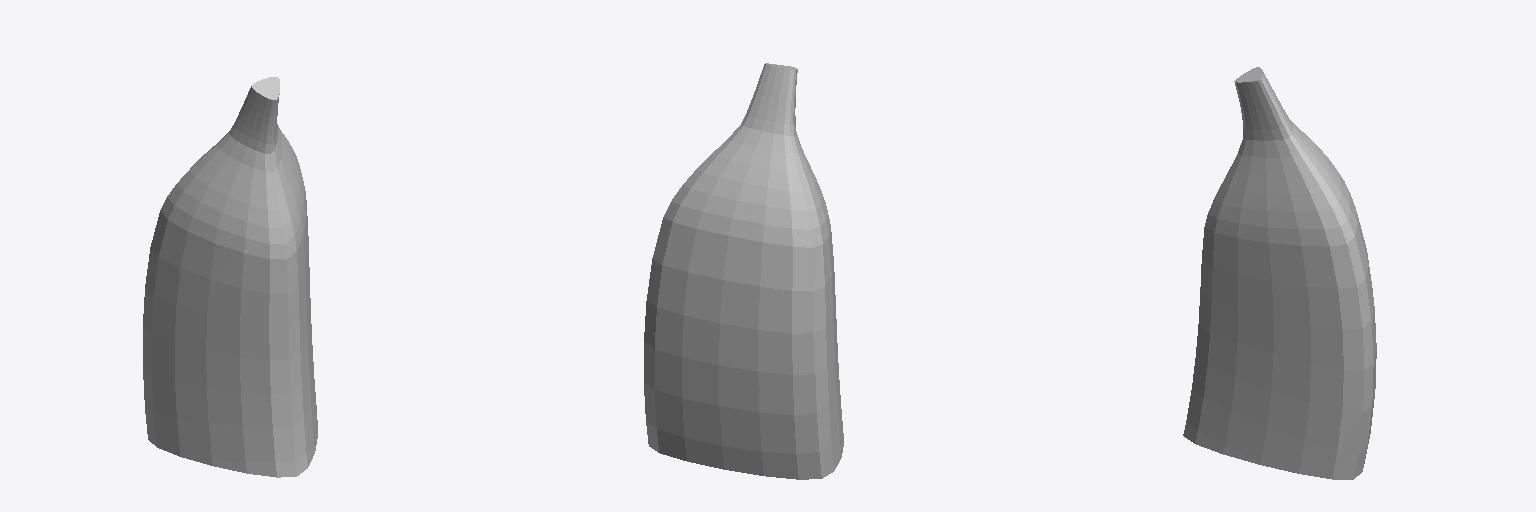
File: banana_half2.obj
3 renders of one model, left to right at view 1: azimuth 30°, elevation 25°; view 2: azimuth 150°, elevation 25°; view 3: azimuth 270°, elevation 25°, orthographic.
Visible parts, largest first — view 1: ____01; view 2: ____01; view 3: ____01.
Boxes of the visible parts, x1=… form: ____01: x1=143, y1=77, x2=317, y2=477; ____01: x1=644, y1=63, x2=843, y2=479; ____01: x1=1183, y1=67, x2=1376, y2=479.
Size of the model in its own units: 15.99 by 33.84 by 16.18.